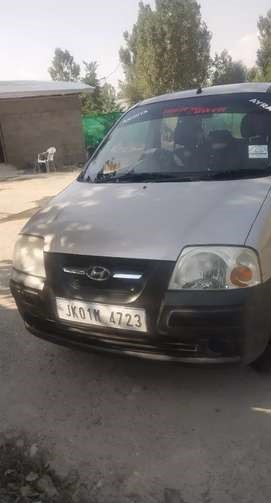JK01M4723: (55, 296, 145, 335)
